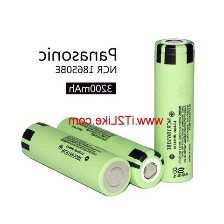battery: (19, 117, 135, 198), (52, 113, 167, 192), (151, 34, 197, 185)
